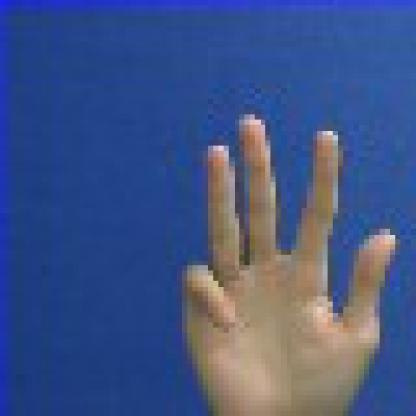nine: (99, 73, 411, 411)
